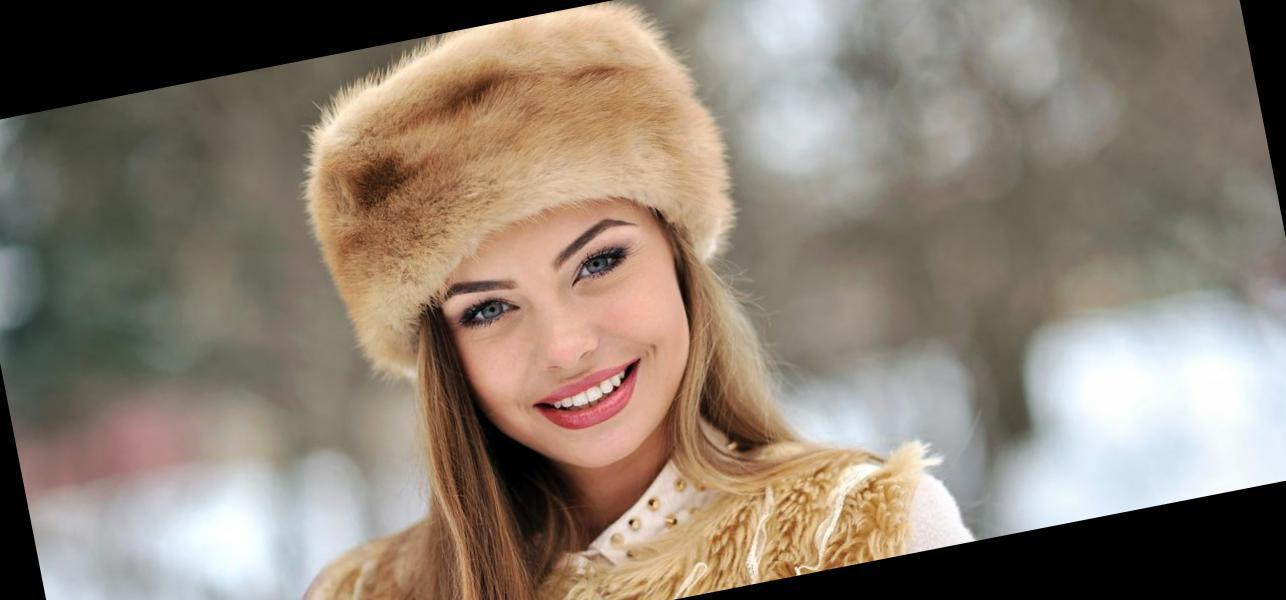Sober: (451, 230, 672, 436)
